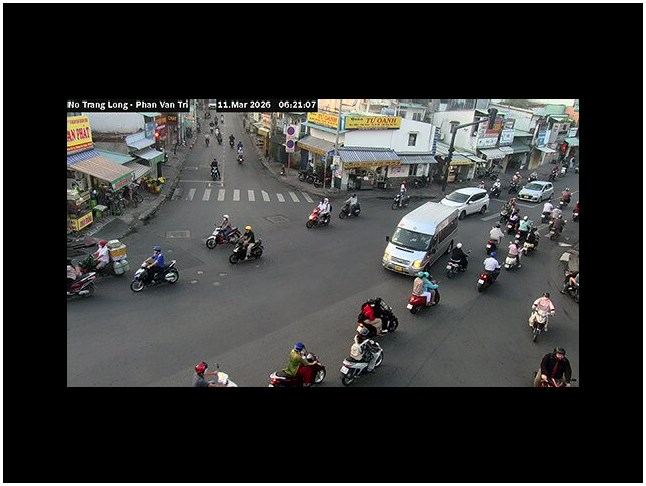car: (380, 199, 463, 276), (440, 187, 490, 217), (518, 181, 554, 203)
motorbike: (340, 337, 384, 385), (268, 352, 325, 387), (130, 258, 179, 292), (406, 272, 441, 311), (66, 258, 97, 298), (193, 360, 237, 387), (228, 233, 264, 265), (340, 194, 362, 219)
